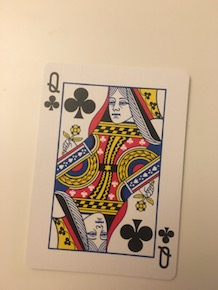QueenOfClubs: (25, 58, 192, 283)
